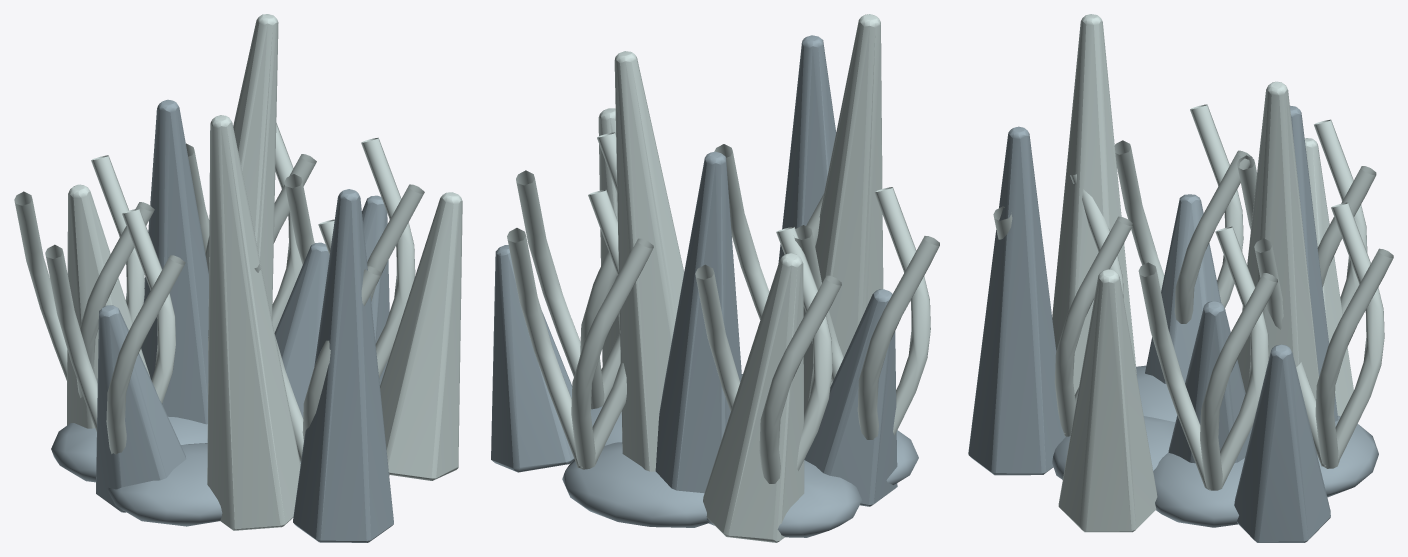
The model's file is bio_crystal_fan_04_far.glb.
3 renders of one model, left to right at view 1: azimuth 30°, elevation 25°; view 2: azimuth 150°, elevation 25°; view 3: azimuth 270°, elevation 25°, orthographic. The views are drawn at different scales.
Parts seen in each view (by area): view 1: Reflecting mineral prism.007, Reflecting mineral prism.002, Reflecting mineral prism.005, Reflecting mineral prism.006, Spiral filament.012, Reflecting mineral prism.004, Reflecting mineral prism.003, Mineral substrate, Spiral filament.003, Spiral filament, Reflecting mineral prism.001, Reflecting mineral prism (+3 smaller); view 2: Reflecting mineral prism.003, Reflecting mineral prism.006, Reflecting mineral prism.001, Reflecting mineral prism.007, Mineral substrate, Spiral filament.009, Reflecting mineral prism.008, Spiral filament.003, Reflecting mineral prism.004, Spiral filament.012, Spiral filament, Reflecting mineral prism.002 (+2 smaller); view 3: Reflecting mineral prism.002, Reflecting mineral prism.005, Reflecting mineral prism.007, Reflecting mineral prism.008, Spiral filament, Reflecting mineral prism.003, Spiral filament.009, Mineral substrate, Spiral filament.012, Spiral filament.006, Reflecting mineral prism.004, Reflecting mineral prism (+3 smaller).
Boxes of the visible parts, bbox=[...] form: Reflecting mineral prism.007: bbox=[207, 115, 300, 530]; Reflecting mineral prism.002: bbox=[293, 189, 393, 542]; Reflecting mineral prism.005: bbox=[380, 192, 462, 480]; Reflecting mineral prism.006: bbox=[141, 99, 208, 424]; Spiral filament.012: bbox=[45, 208, 185, 454]; Reflecting mineral prism.004: bbox=[96, 305, 186, 512]; Reflecting mineral prism.003: bbox=[205, 14, 278, 354]; Mineral substrate: bbox=[51, 416, 389, 526]; Spiral filament.003: bbox=[14, 155, 154, 397]; Spiral filament: bbox=[284, 137, 424, 377]; Reflecting mineral prism.001: bbox=[67, 184, 150, 428]; Reflecting mineral prism: bbox=[274, 242, 329, 417]; Reflecting mineral prism.003: bbox=[614, 51, 684, 471]; Reflecting mineral prism.006: bbox=[655, 151, 741, 493]; Reflecting mineral prism.001: bbox=[703, 253, 804, 542]; Reflecting mineral prism.007: bbox=[803, 14, 883, 413]; Mineral substrate: bbox=[562, 374, 918, 537]; Spiral filament.009: bbox=[507, 189, 653, 469]; Reflecting mineral prism.008: bbox=[491, 245, 574, 472]; Spiral filament.003: bbox=[695, 227, 841, 483]; Reflecting mineral prism.004: bbox=[804, 289, 897, 506]; Spiral filament.012: bbox=[794, 187, 939, 439]; Spiral filament: bbox=[516, 132, 620, 409]; Reflecting mineral prism.002: bbox=[778, 35, 836, 263]; Reflecting mineral prism.002: bbox=[968, 126, 1065, 475]; Reflecting mineral prism.005: bbox=[1058, 269, 1157, 532]; Reflecting mineral prism.007: bbox=[1052, 14, 1136, 394]; Reflecting mineral prism.008: bbox=[1234, 344, 1330, 542]; Spiral filament: bbox=[1138, 226, 1277, 490]; Reflecting mineral prism.003: bbox=[1237, 81, 1318, 400]; Spiral filament.009: bbox=[1254, 202, 1393, 468]; Mineral substrate: bbox=[1052, 365, 1378, 527]; Spiral filament.012: bbox=[1114, 104, 1252, 323]; Spiral filament.006: bbox=[993, 174, 1132, 436]; Reflecting mineral prism.004: bbox=[1145, 194, 1221, 383]; Reflecting mineral prism: bbox=[1168, 301, 1252, 463].
Size of the model in its own units: 1.65 by 1.73 by 1.6.
